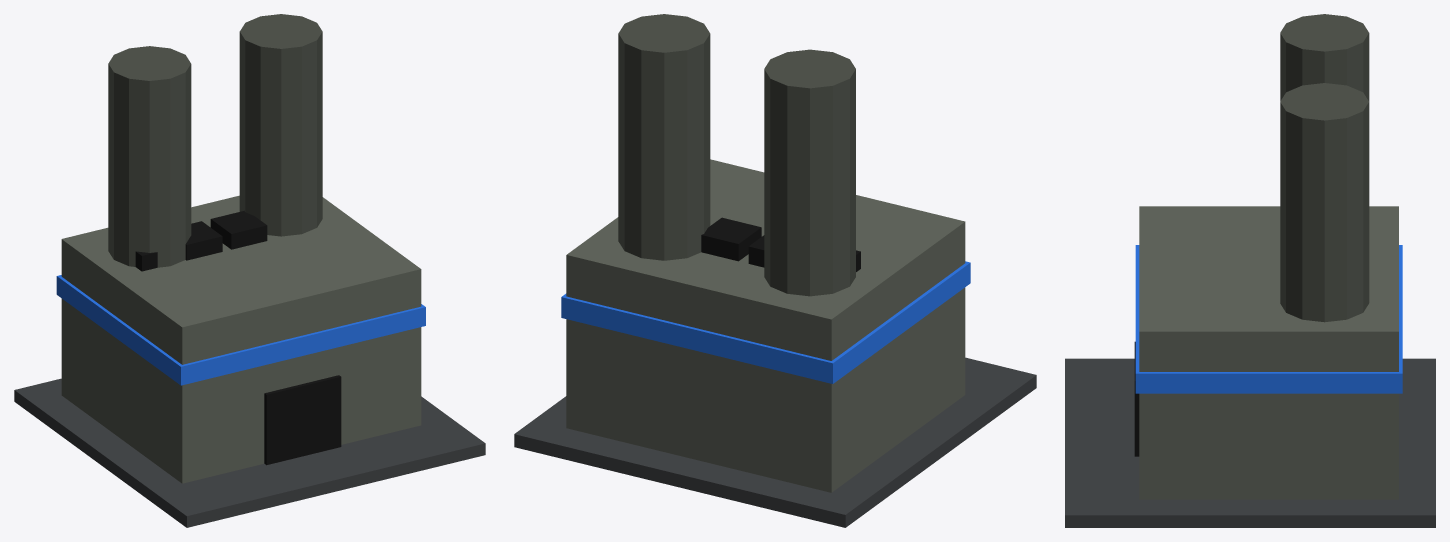
The model's file is eu_power_station.glb.
The picture shows the model from 3 angles, left to right: view 1: azimuth 30°, elevation 25°; view 2: azimuth 150°, elevation 25°; view 3: azimuth 270°, elevation 25°; orthographic projection. The views are drawn at different scales.
Parts seen in each view (by area): view 1: main, base, stack_1, stack_0, team_band, door, vent_2, vent_1; view 2: main, stack_1, stack_0, base, team_band, vent_2; view 3: main, base, stack_1, team_band, stack_0, door.
Part boxes in pixels (x1=…): main: x1=61, y1=195, x2=421, y2=483; base: x1=14, y1=378, x2=485, y2=527; stack_1: x1=239, y1=14, x2=322, y2=236; stack_0: x1=108, y1=46, x2=191, y2=267; team_band: x1=56, y1=275, x2=425, y2=385; door: x1=264, y1=375, x2=341, y2=465; vent_2: x1=210, y1=210, x2=267, y2=249; vent_1: x1=185, y1=221, x2=222, y2=260; main: x1=566, y1=159, x2=965, y2=492; stack_1: x1=618, y1=14, x2=710, y2=260; stack_0: x1=764, y1=49, x2=855, y2=296; base: x1=514, y1=357, x2=1036, y2=527; team_band: x1=561, y1=261, x2=970, y2=383; vent_2: x1=701, y1=217, x2=761, y2=261; main: x1=1139, y1=206, x2=1398, y2=499; base: x1=1065, y1=358, x2=1435, y2=527; stack_1: x1=1280, y1=83, x2=1369, y2=322; team_band: x1=1135, y1=245, x2=1402, y2=393; stack_0: x1=1280, y1=14, x2=1369, y2=101; door: x1=1134, y1=341, x2=1139, y2=456.
Bounding box in the file's own units: 8 × 9.1 × 8.
